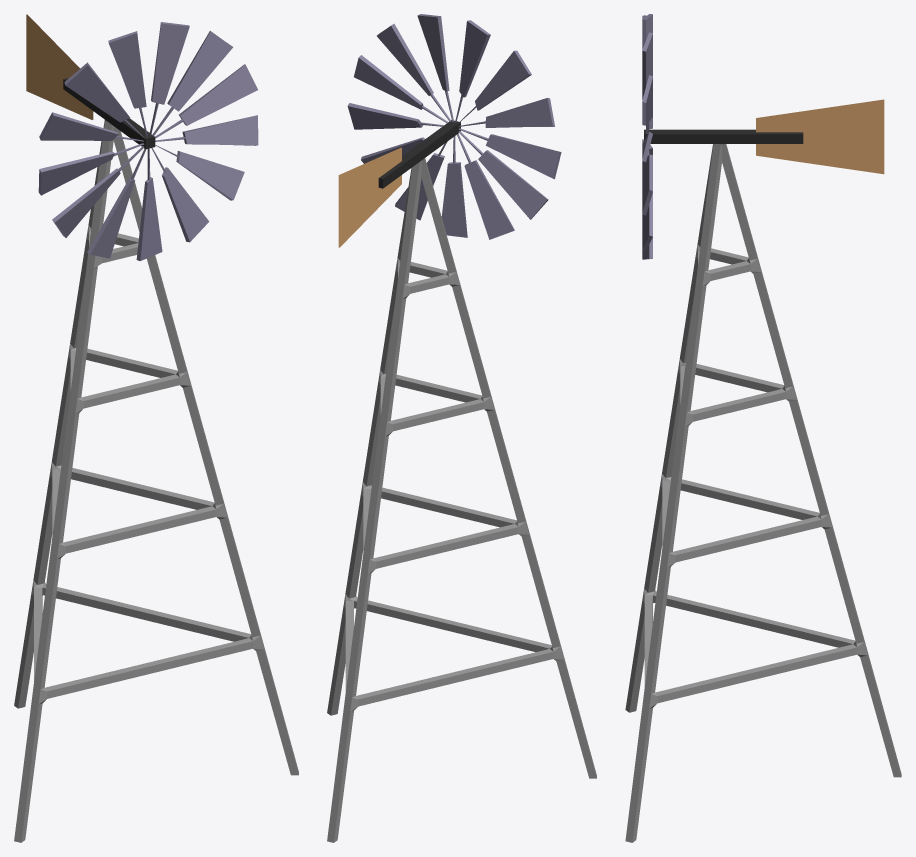
Rendered from windmill.fbx.
3 views of the same model, side by side, from view 1: azimuth 30°, elevation 25°; view 2: azimuth 150°, elevation 25°; view 3: azimuth 270°, elevation 25° (orthographic). The views are drawn at different scales.
Visible parts, largest first — view 1: Cone, Plane.053, Plane.054, Cube.035; view 2: Cone, Plane.053, Plane.054, Cube.035; view 3: Cone, Plane.054, Plane.053, Cube.035.
Boxes of the visible parts, bbox=[...] form: Cone: bbox=[14, 120, 298, 842]; Plane.053: bbox=[38, 22, 258, 260]; Plane.054: bbox=[26, 14, 93, 119]; Cube.035: bbox=[63, 78, 155, 149]; Cone: bbox=[327, 158, 596, 842]; Plane.053: bbox=[347, 14, 561, 239]; Plane.054: bbox=[338, 147, 401, 247]; Cube.035: bbox=[378, 120, 460, 188]; Cone: bbox=[625, 144, 901, 842]; Plane.054: bbox=[756, 99, 884, 174]; Plane.053: bbox=[642, 14, 652, 259]; Cube.035: bbox=[644, 129, 803, 143].
Bounding box in the file's own units: 620 × 1609 × 537.
